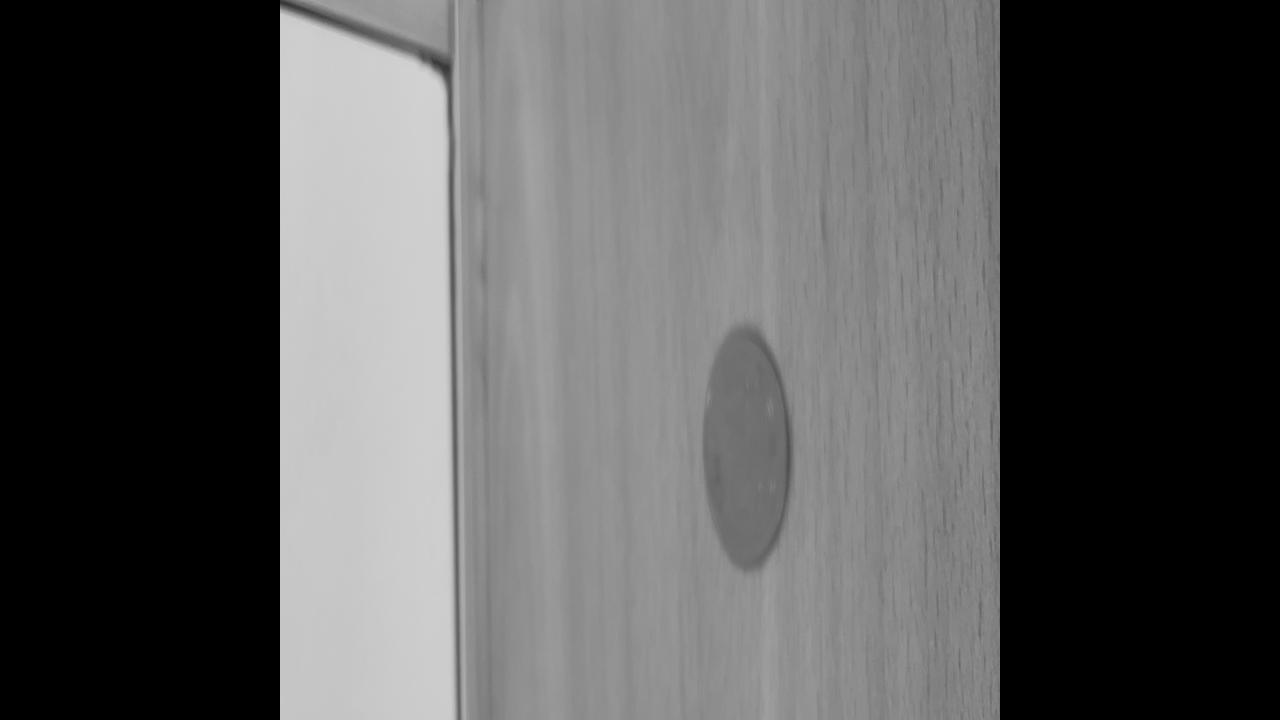coin: (701, 326, 791, 570)
